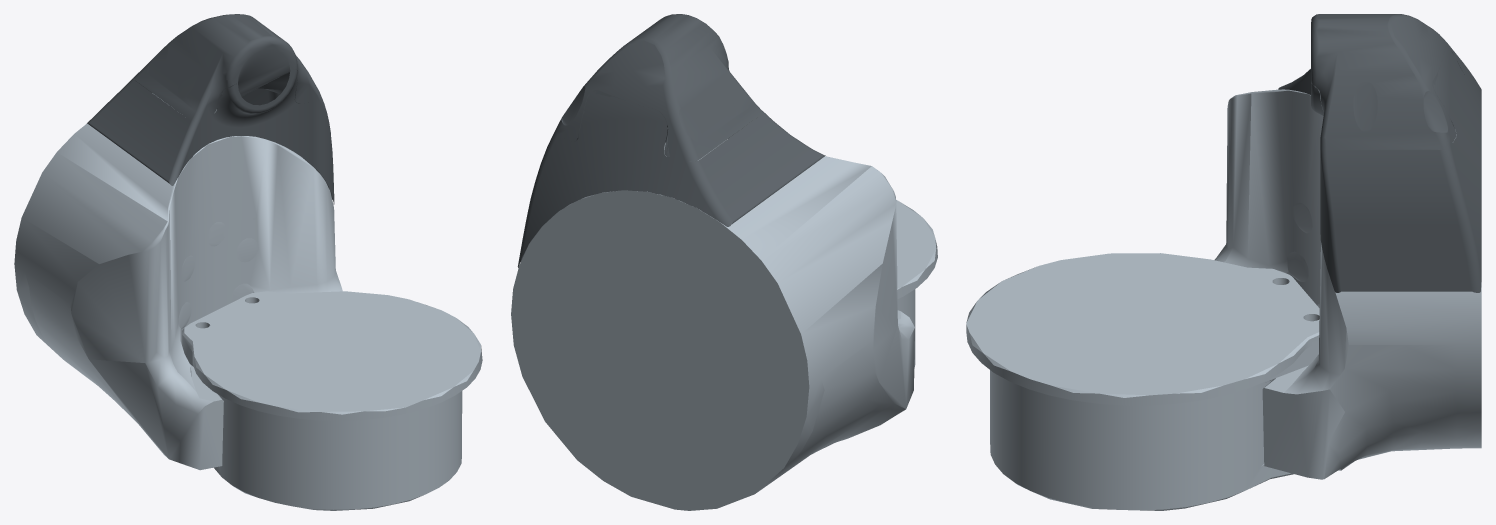
The model's file is LeftElbowPitchLink.obj.
3 views of the same model, side by side, from view 1: azimuth 30°, elevation 25°; view 2: azimuth 150°, elevation 25°; view 3: azimuth 270°, elevation 25° (orthographic). The views are drawn at different scales.
Parts seen in each view (by area): view 1: N17_24_P01_01_L_Elbow_Bend_Structure, N17_25_P11_01_Elbow_To_Forearm, N17_24_P01_03_L_Forearm_wire_inlet, N17_24_P01_04_L_Forearm_wire_inlet_cover; view 2: N17_24_P01_01_L_Elbow_Bend_Structure, N17_24_P01_03_L_Forearm_wire_inlet, N17_24_P01_04_L_Forearm_wire_inlet_cover, N17_25_P11_01_Elbow_To_Forearm; view 3: N17_25_P11_01_Elbow_To_Forearm, N17_24_P01_01_L_Elbow_Bend_Structure, N17_24_P01_03_L_Forearm_wire_inlet, N17_24_P01_04_L_Forearm_wire_inlet_cover.
Part boxes in pixels (x1,y1,x2,y2): N17_24_P01_01_L_Elbow_Bend_Structure: [14, 93, 342, 470]; N17_25_P11_01_Elbow_To_Forearm: [182, 291, 482, 510]; N17_24_P01_03_L_Forearm_wire_inlet: [87, 69, 334, 204]; N17_24_P01_04_L_Forearm_wire_inlet_cover: [134, 14, 322, 121]; N17_24_P01_01_L_Elbow_Bend_Structure: [511, 140, 914, 510]; N17_24_P01_03_L_Forearm_wire_inlet: [517, 91, 825, 267]; N17_24_P01_04_L_Forearm_wire_inlet_cover: [554, 14, 763, 161]; N17_25_P11_01_Elbow_To_Forearm: [896, 200, 937, 368]; N17_25_P11_01_Elbow_To_Forearm: [966, 253, 1319, 510]; N17_24_P01_01_L_Elbow_Bend_Structure: [1214, 89, 1481, 479]; N17_24_P01_03_L_Forearm_wire_inlet: [1278, 47, 1481, 292]; N17_24_P01_04_L_Forearm_wire_inlet_cover: [1311, 14, 1464, 149].
Bounding box in the file's own units: 0.0999 × 0.1175 × 0.1249.
